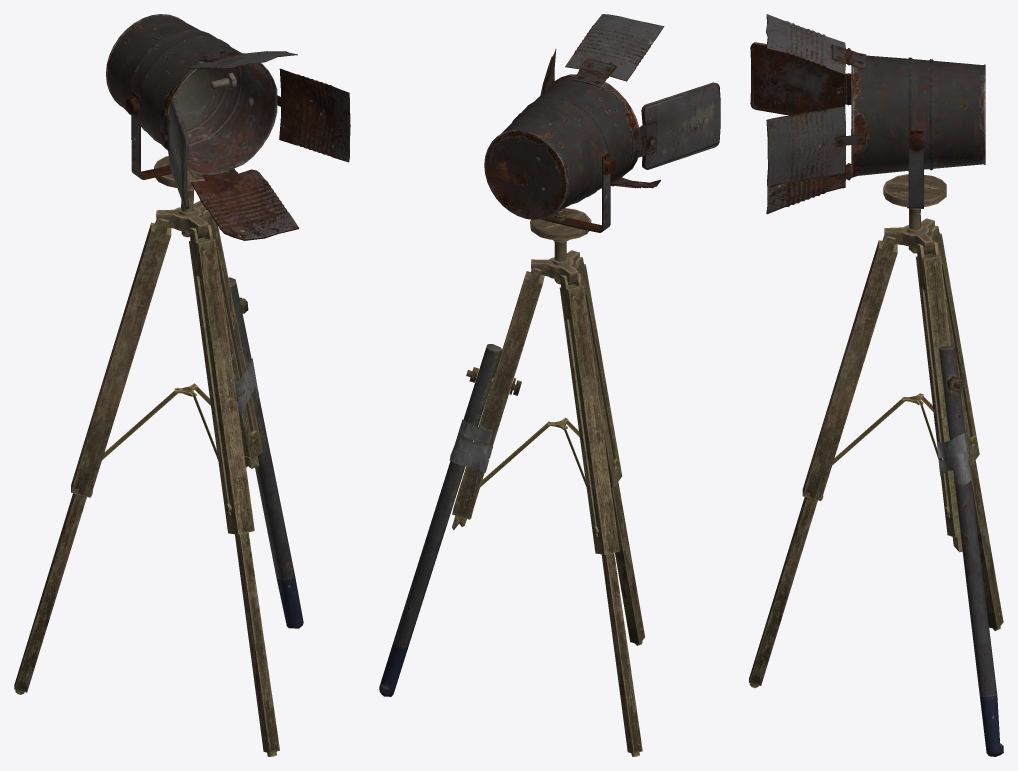
Rendered from electric.spotlight.tripod.guide.glb.
3 renders of one model, left to right at view 1: azimuth 30°, elevation 25°; view 2: azimuth 150°, elevation 25°; view 3: azimuth 270°, elevation 25°, orthographic. The views are drawn at different scales.
Parts seen in each view (by area): view 1: dlc_spotlight_tripod_lod0, dlc_spotlight_lod0, dlc_new_spotlight_rotator; view 2: dlc_spotlight_tripod_lod0, dlc_spotlight_lod0, dlc_new_spotlight_rotator; view 3: dlc_spotlight_lod0, dlc_spotlight_tripod_lod0, dlc_new_spotlight_rotator.
Part boxes in pixels (bbox=[...]): dlc_spotlight_tripod_lod0: bbox=[14, 156, 303, 756]; dlc_spotlight_lod0: bbox=[106, 14, 350, 240]; dlc_new_spotlight_rotator: bbox=[125, 90, 187, 179]; dlc_spotlight_tripod_lod0: bbox=[379, 208, 644, 756]; dlc_spotlight_lod0: bbox=[484, 14, 720, 219]; dlc_new_spotlight_rotator: bbox=[541, 152, 615, 232]; dlc_spotlight_lod0: bbox=[750, 14, 985, 214]; dlc_spotlight_tripod_lod0: bbox=[749, 174, 1003, 756]; dlc_new_spotlight_rotator: bbox=[907, 130, 926, 208].
Size of the model in its own units: 0.6933 by 1.59 by 0.5582.
2 materials, 2 textured.
